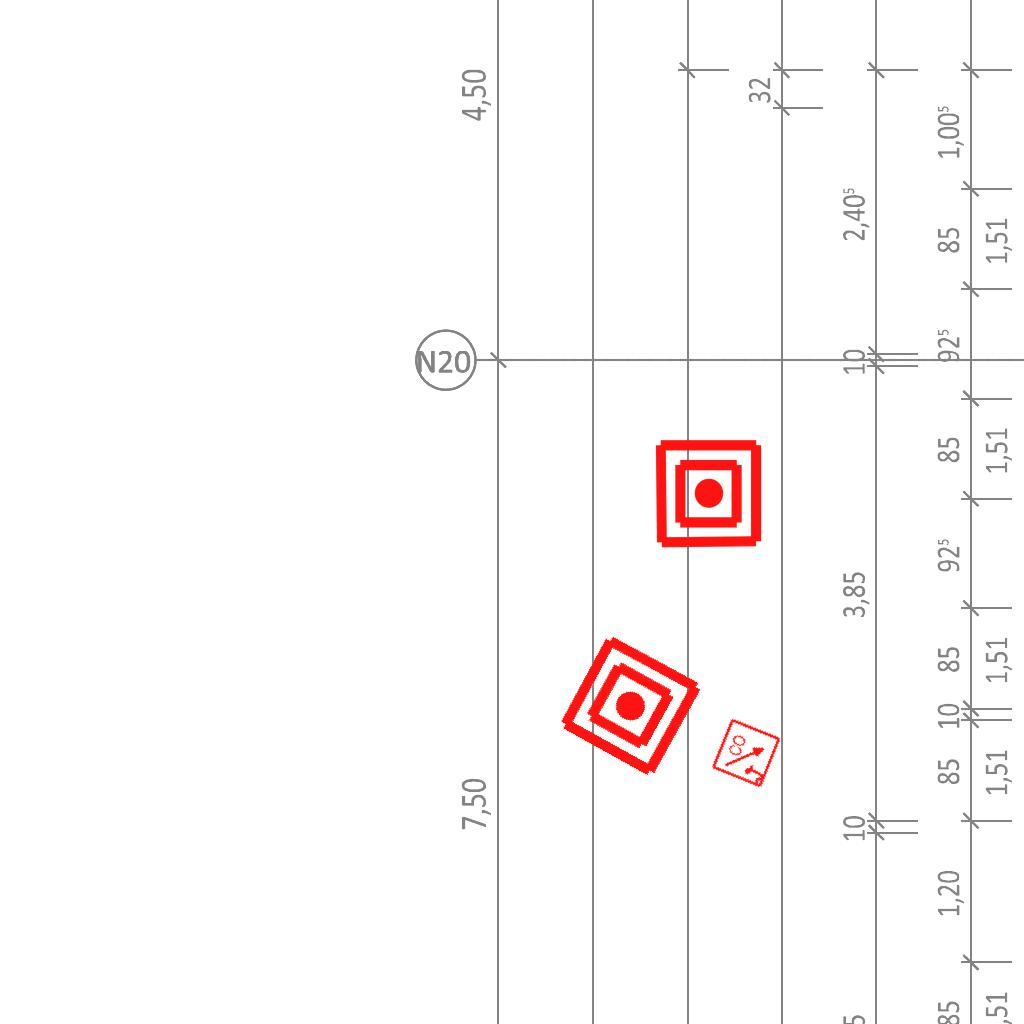NAM-Nichtautomatischer_Melder: (553, 628, 708, 783), (652, 437, 765, 550)
ROA_Rauchmelder_optisch_mit_Signalgeber_(Sockelsirene): (710, 716, 784, 790)
